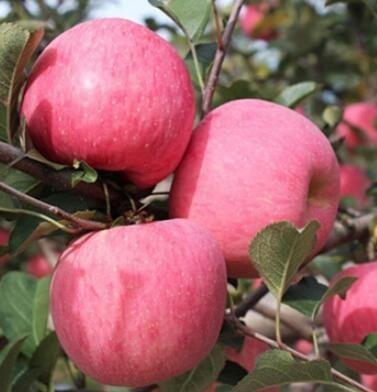apple: (47, 218, 232, 381), (11, 20, 196, 182), (169, 99, 343, 271)
